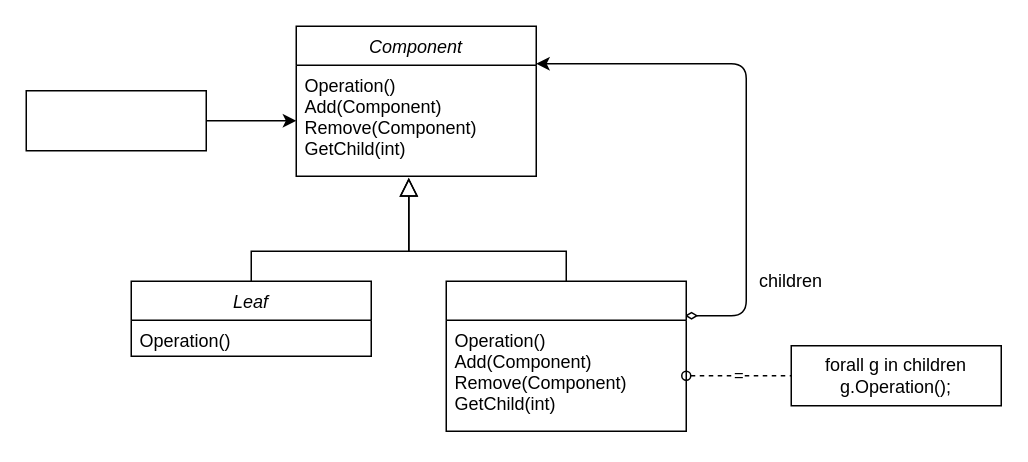
Some shapes in this 1028 by 462 pixel diagram are drawn without their labels. The box of each missing label's shape, as (x1, y1, x2, y2) in pixels:
Client: (25, 89, 206, 151)
Composite: (445, 280, 686, 431)
